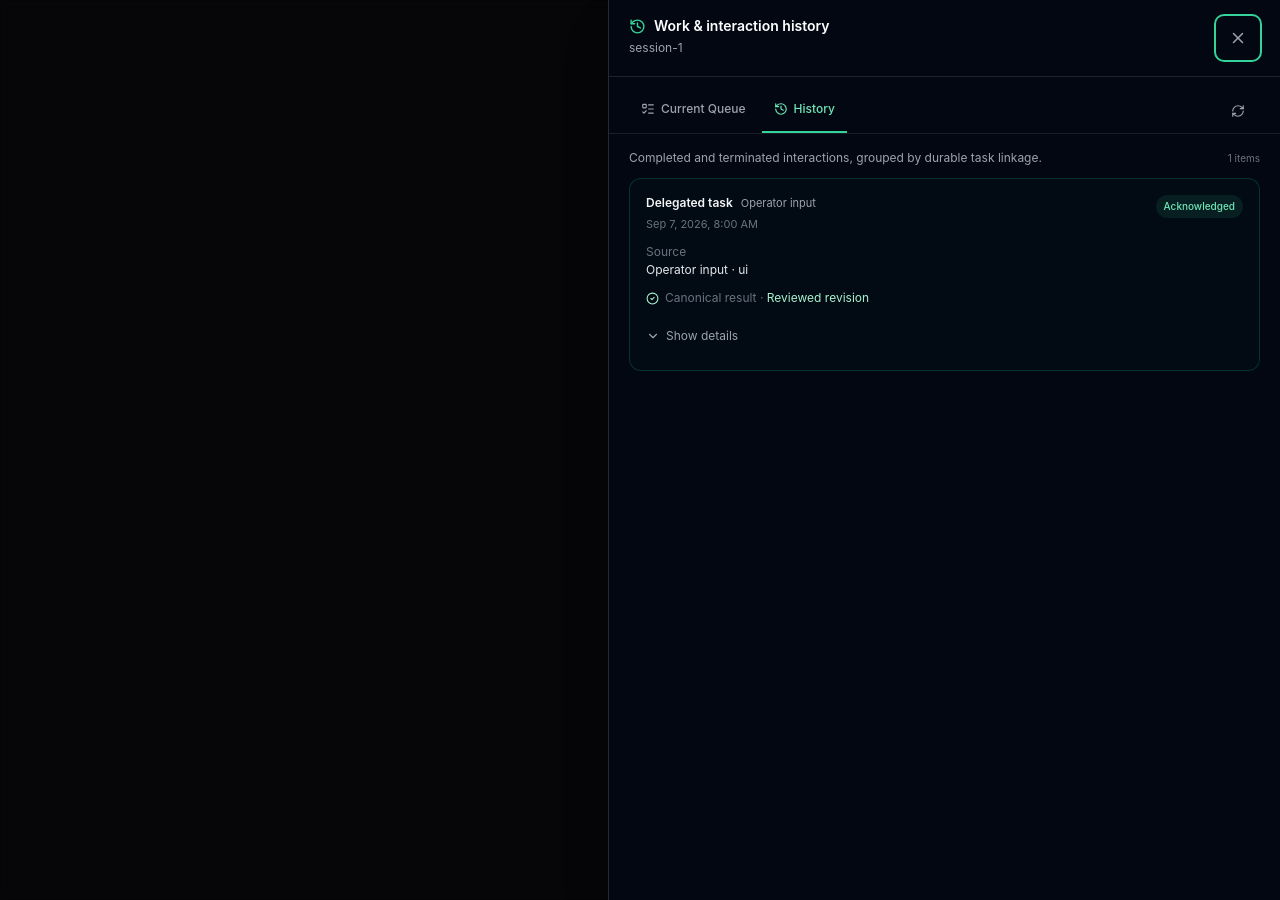
InteractionHistoryDrawer › loads canonical result content only when its grouped interaction expands
Expected: the text "Reviewed revision" is shown, [767,290,869,305]
Step 1. Click the button "Show details" → (692,336), box [646,318,738,354]
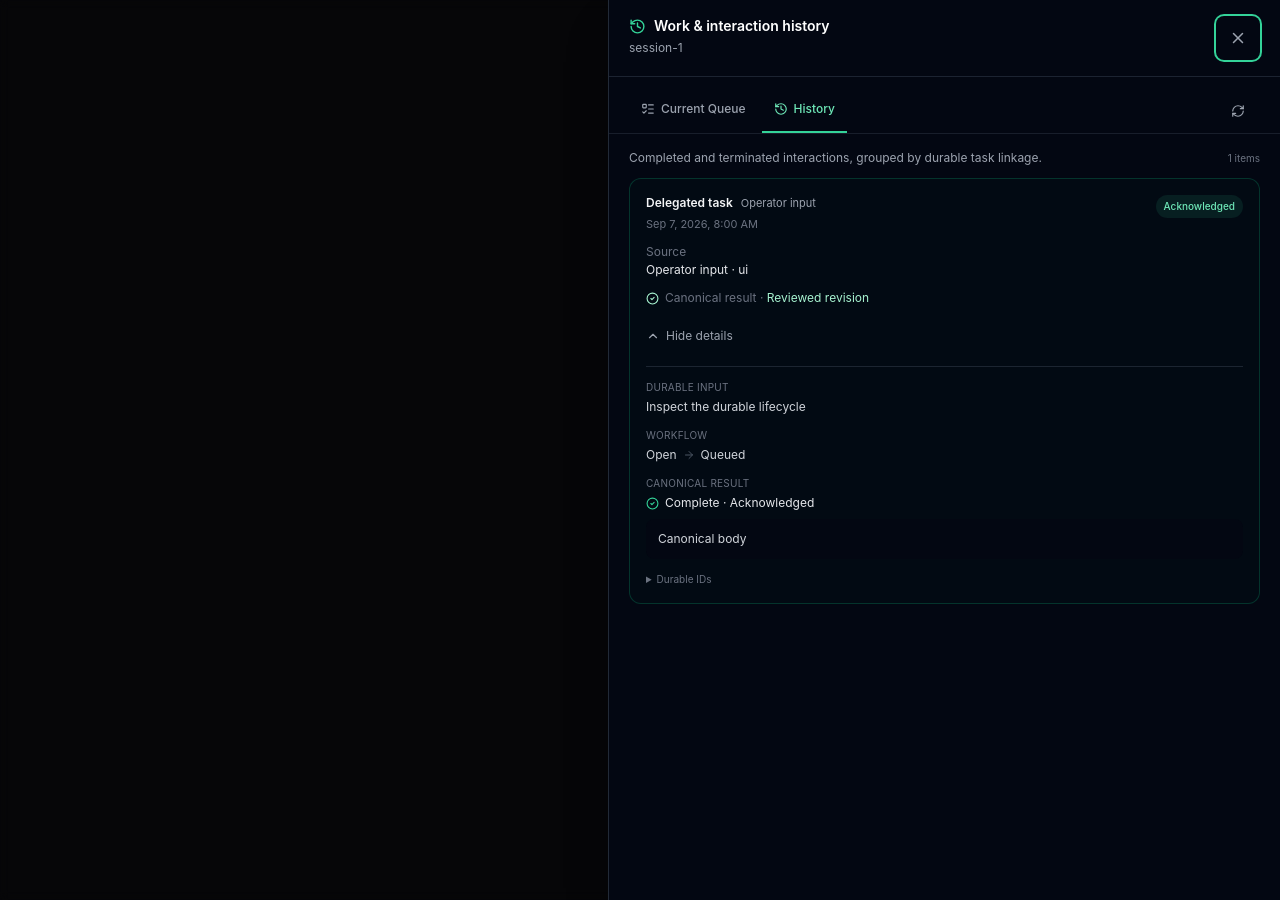
Now the text "Canonical body" is shown, box [646,519,1243,559]
